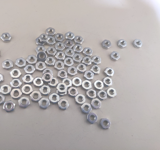nut: (30, 91, 42, 103), (58, 99, 70, 111), (81, 103, 92, 115), (4, 101, 15, 113), (22, 74, 34, 85), (39, 85, 51, 96), (87, 112, 97, 125), (100, 119, 111, 130), (0, 85, 11, 96), (19, 98, 30, 109), (39, 99, 50, 110), (91, 99, 102, 110), (97, 91, 108, 102), (2, 60, 14, 70), (10, 79, 22, 89), (10, 69, 22, 79), (56, 83, 68, 93), (50, 93, 60, 105), (1, 33, 12, 43), (101, 40, 112, 50), (117, 39, 128, 49), (110, 51, 121, 61), (33, 77, 44, 87), (107, 88, 117, 99), (84, 71, 95, 81), (22, 85, 33, 95), (11, 89, 21, 100), (24, 65, 35, 75), (48, 77, 59, 87), (42, 68, 53, 78), (75, 95, 86, 105), (72, 78, 83, 88), (83, 80, 93, 91), (92, 56, 103, 66), (91, 65, 102, 75), (133, 39, 143, 49), (16, 58, 26, 68), (87, 89, 97, 99), (55, 61, 65, 71), (94, 80, 104, 90), (27, 55, 37, 65), (68, 67, 78, 77), (36, 62, 46, 72), (58, 70, 68, 80), (63, 79, 73, 89), (65, 48, 75, 58), (82, 48, 93, 57), (57, 87, 68, 96), (74, 36, 85, 45), (76, 64, 87, 73), (105, 68, 115, 77), (45, 57, 55, 66), (68, 88, 78, 97), (73, 54, 83, 63), (74, 44, 83, 54), (103, 78, 114, 86), (36, 46, 47, 54), (47, 47, 56, 56), (65, 58, 74, 67), (37, 52, 46, 61), (55, 33, 64, 42), (47, 36, 56, 45), (40, 34, 49, 43), (36, 37, 45, 46), (83, 57, 92, 66), (46, 28, 56, 36), (55, 43, 65, 51), (42, 73, 52, 81), (55, 52, 65, 60), (66, 32, 75, 40), (65, 40, 73, 48), (0, 73, 5, 83), (0, 95, 5, 105)
